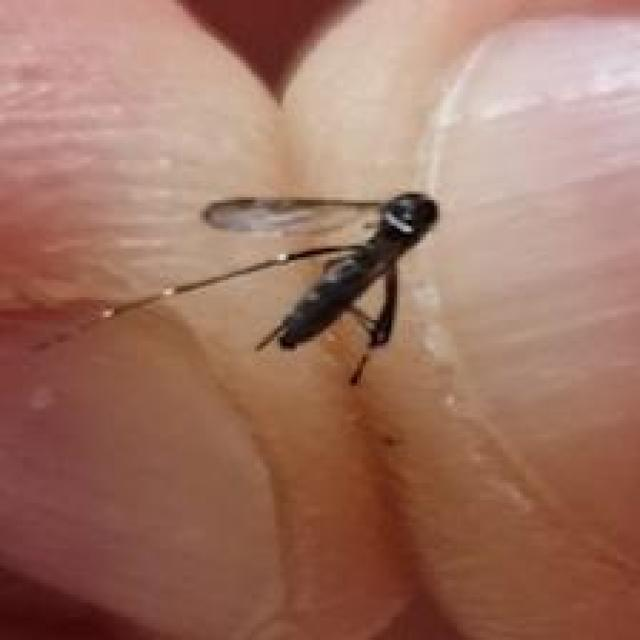Aedes albopictus: (100, 190, 440, 387)
